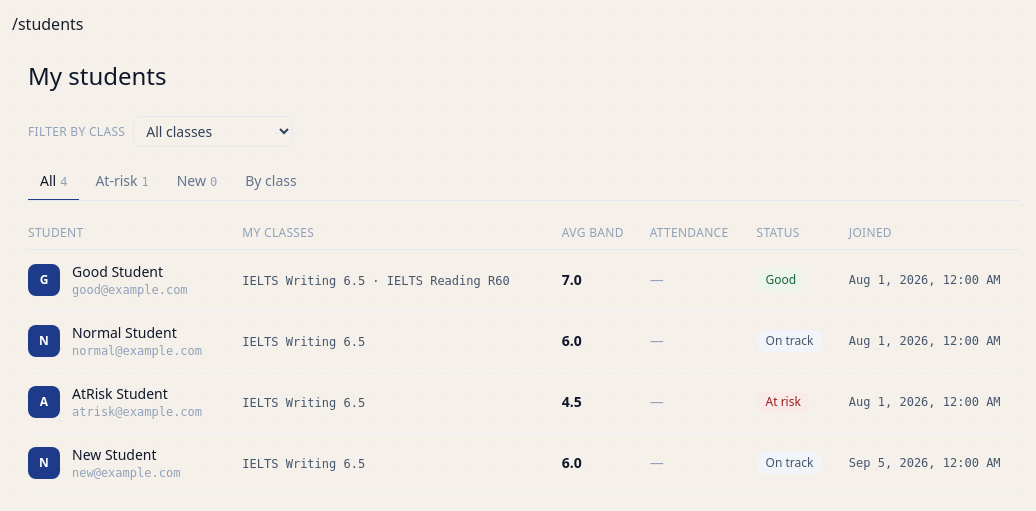
Test: StudentsTeacherPage — AC5 tabs (All / At-risk / New / By-class) › P1 At-risk tab shows the at-risk student and NOT a good student (negative)
This screenshot has width=1036, height=511.
Check: the link "Good Student" is shown, box [72,262,163,281]
Click the tab "At-risk1": point(122, 182) [83,163,161,201]
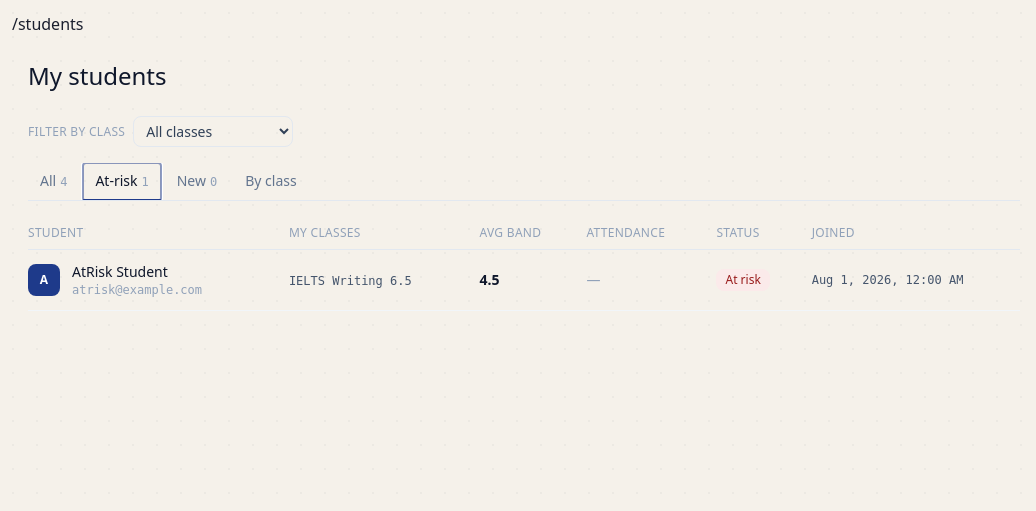
Check: the link "AtRisk Student" is shown, box [72,262,168,281]
Check: the link "Good Student" is gone
